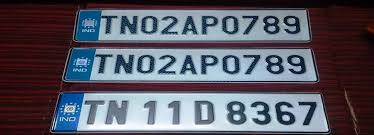inlp: (47, 88, 335, 135), (65, 45, 322, 86), (70, 6, 314, 44)
